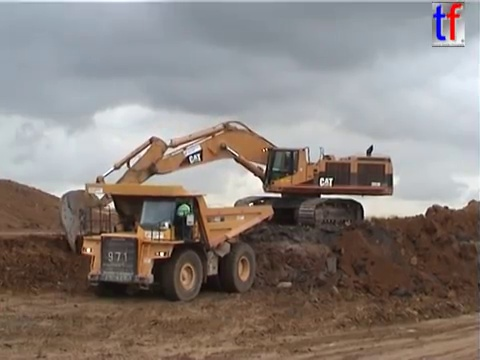excavator: (57, 117, 396, 255)
truck: (77, 181, 275, 302)
worker: (173, 197, 193, 243)
